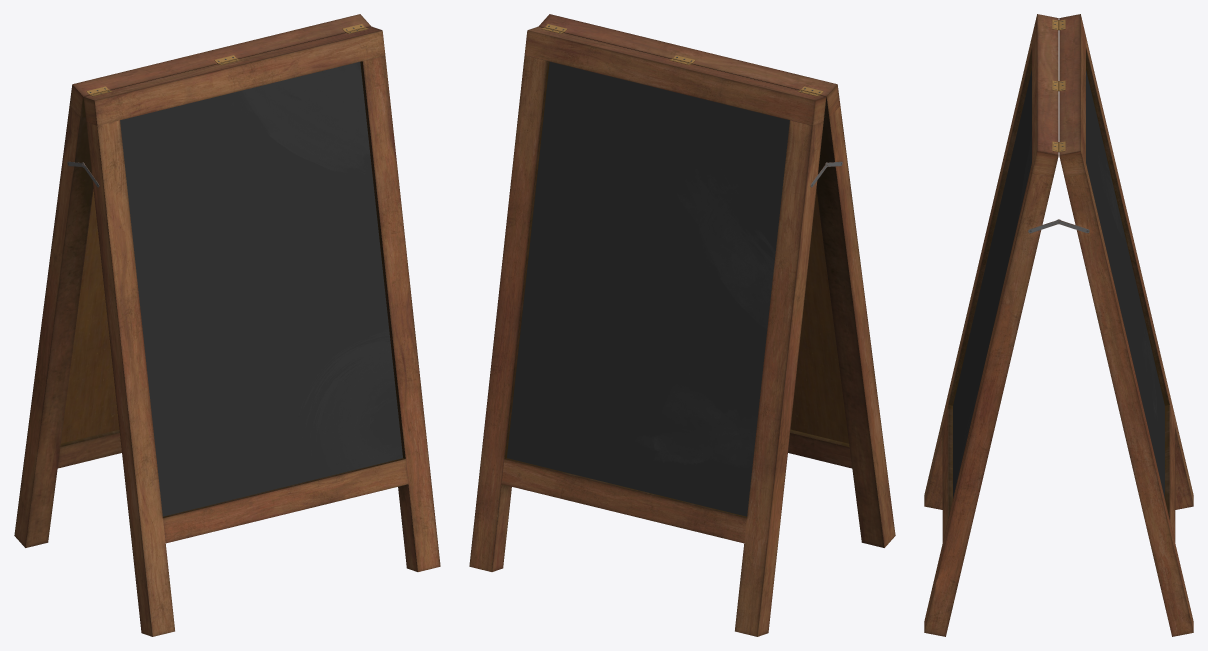
The model's file is sign.fbx.
3 views of the same model, side by side, from view 1: azimuth 30°, elevation 25°; view 2: azimuth 150°, elevation 25°; view 3: azimuth 270°, elevation 25° (orthographic). The views are drawn at different scales.
Visible parts, largest first — view 1: standing_chalkboard_01; view 2: standing_chalkboard_01; view 3: standing_chalkboard_01.
Part boxes in pixels (x1,y1,x2,y2): standing_chalkboard_01: (14, 14, 440, 636); standing_chalkboard_01: (469, 14, 895, 636); standing_chalkboard_01: (924, 14, 1193, 636).
Size of the model in its own units: 91.95 by 151 by 75.87.
2 materials, 2 textured.
